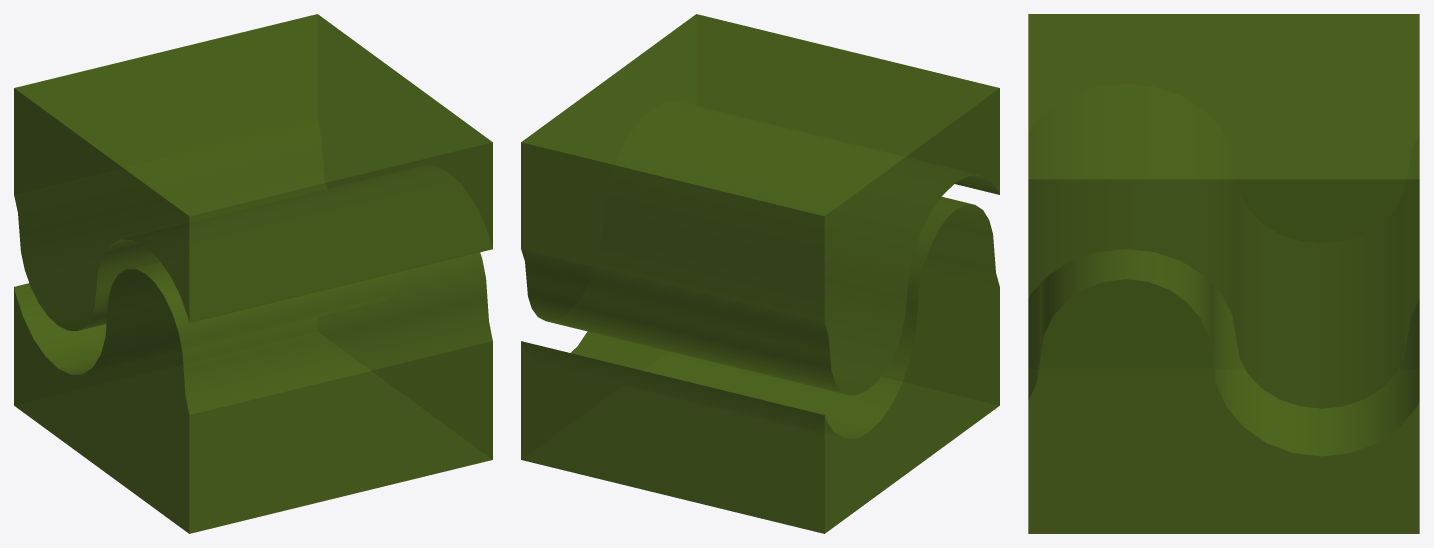
File: sinecube3.dae
The picture shows the model from 3 angles, left to right: view 1: azimuth 30°, elevation 25°; view 2: azimuth 150°, elevation 25°; view 3: azimuth 270°, elevation 25°; orthographic projection. The views are drawn at different scales.
Visible parts, largest first — view 1: group_0 (×2); view 2: group_0 (×2); view 3: group_0 (×2).
Boxes of the visible parts, x1,y1,x2,y2 form: group_0 (×2): (14, 14, 492, 533); group_0 (×2): (521, 14, 999, 533); group_0 (×2): (1028, 14, 1419, 533).
Size of the model in its own units: 1 by 1 by 1.
